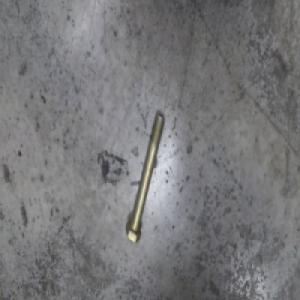Bolt: (125, 102, 164, 242)
